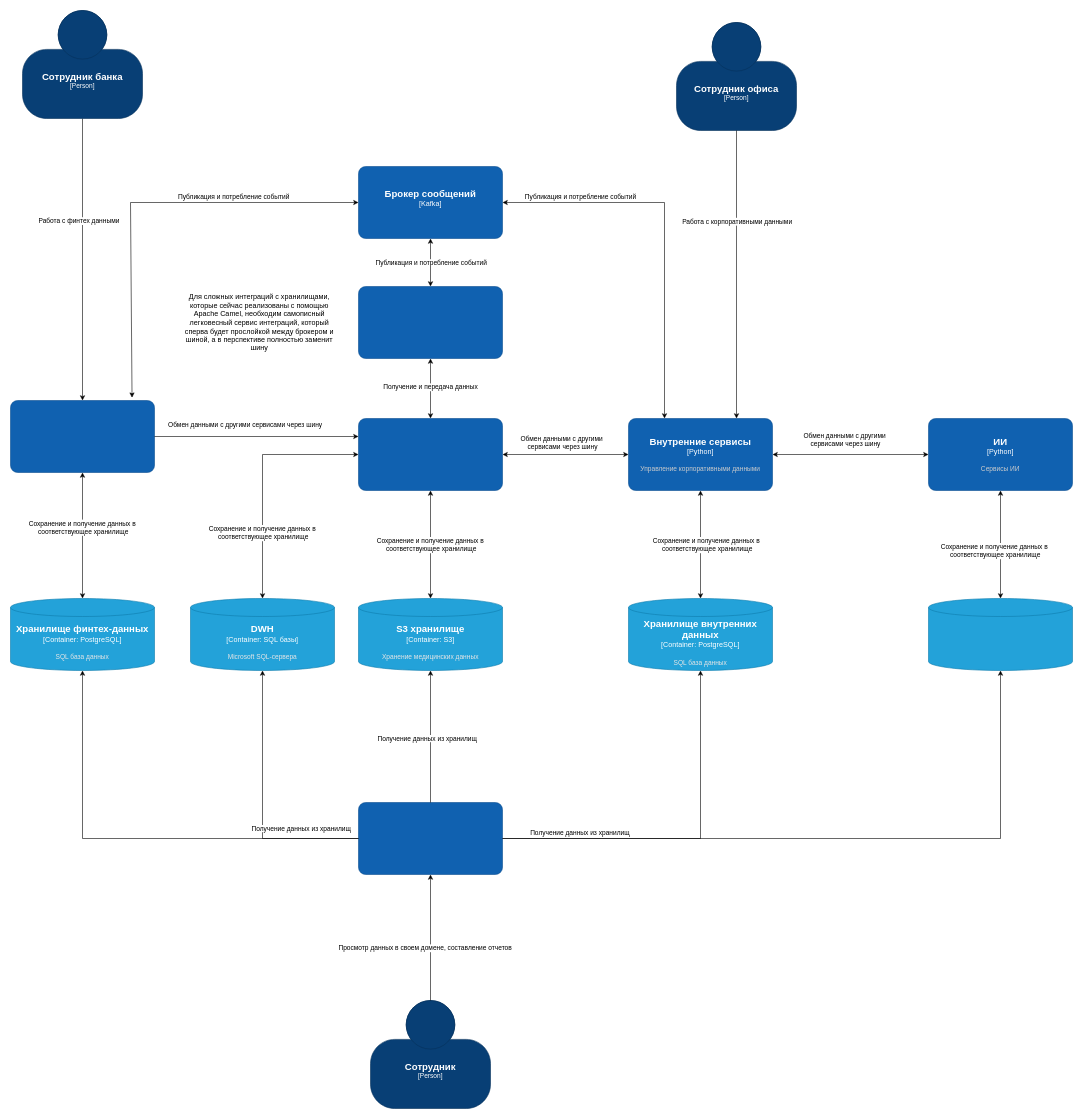
Image size: 1083x1119. Some labels were removed from this diagram. Each missing label, with the centre of its shape:
S3 хранилище [Container: S3] Хранение неструктурированных данных: the point at 1000,634
Витрина данных [DataHub] DataMesh система: the point at 430,838
Интеграционная шина [Apache Camel]: the point at 430,454
Сервис интеграций [Python] Обработка данных между шиной и брокером: the point at 430,322
Финтех-сервисы [Golang/Java]: the point at 82,436
